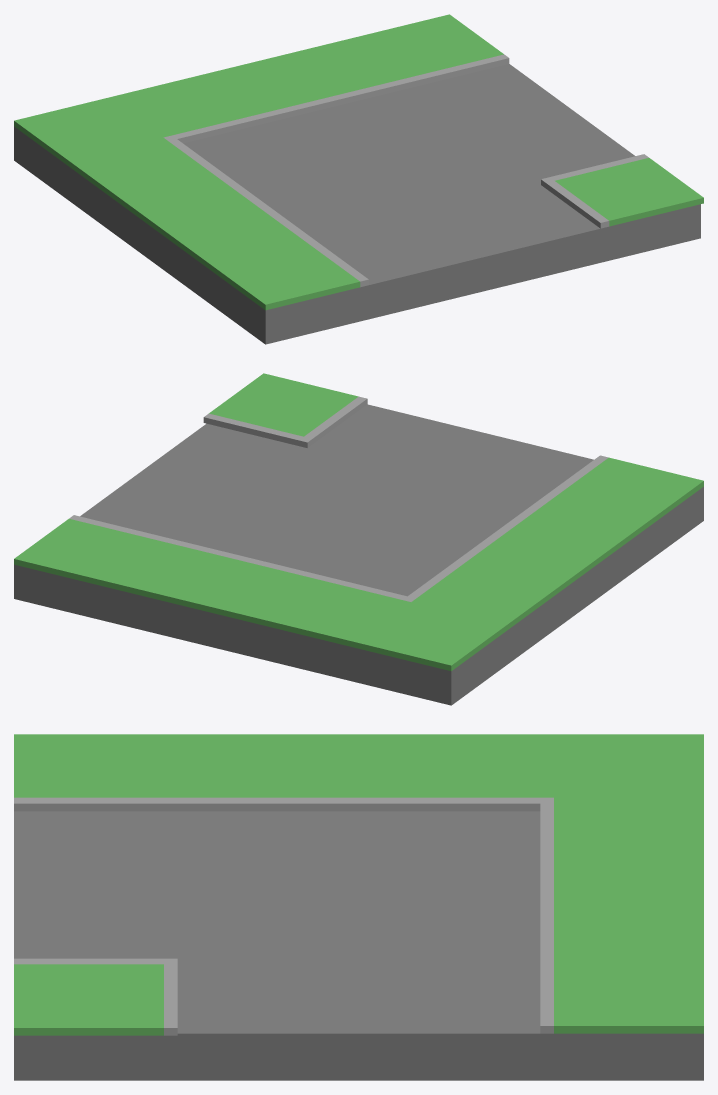
Rendered from corner_colored.fbx.
3 views of the same model, one above another, from view 1: azimuth 30°, elevation 25°; view 2: azimuth 150°, elevation 25°; view 3: azimuth 270°, elevation 25° (orthographic). The views are drawn at different scales.
Visible parts, largest first — view 1: Ground.001, Cube.006, Cube.016, Cube.008, Cube.017, Cube.004, Cube.007; view 2: Ground.001, Cube.006, Cube.016, Cube.008, Cube.007, Cube.017, Cube.004; view 3: Ground.001, Cube.006, Cube.016, Cube.008, Cube.004, Cube.017, Cube.007.
Part boxes in pixels (x1,y1,x2,y2): Ground.001: (14, 64, 700, 344); Cube.006: (14, 97, 360, 310); Cube.016: (109, 14, 503, 137); Cube.008: (555, 158, 703, 226); Cube.017: (163, 54, 509, 143); Cube.004: (168, 139, 368, 287); Cube.007: (541, 154, 648, 228); Ground.001: (14, 404, 703, 705); Cube.006: (356, 457, 703, 671); Cube.016: (14, 518, 410, 647); Cube.008: (209, 373, 358, 436); Cube.007: (203, 396, 367, 447); Cube.017: (69, 515, 415, 601); Cube.004: (408, 455, 608, 598); Ground.001: (14, 811, 703, 1080); Cube.006: (14, 734, 703, 797); Cube.016: (554, 797, 703, 1033); Cube.008: (14, 964, 163, 1035); Cube.004: (14, 797, 540, 811); Cube.017: (540, 797, 553, 1033); Cube.007: (14, 958, 177, 1035).
Bounding box in the file's own units: 805 × 70 × 800.
